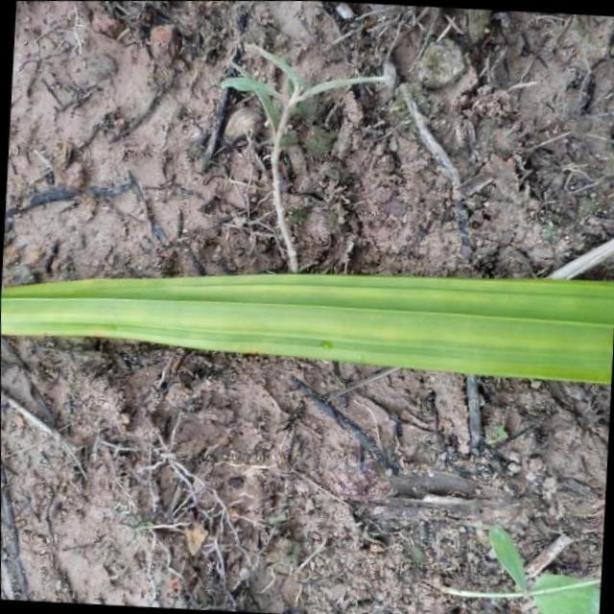nitrogen: (0, 270, 614, 386)
